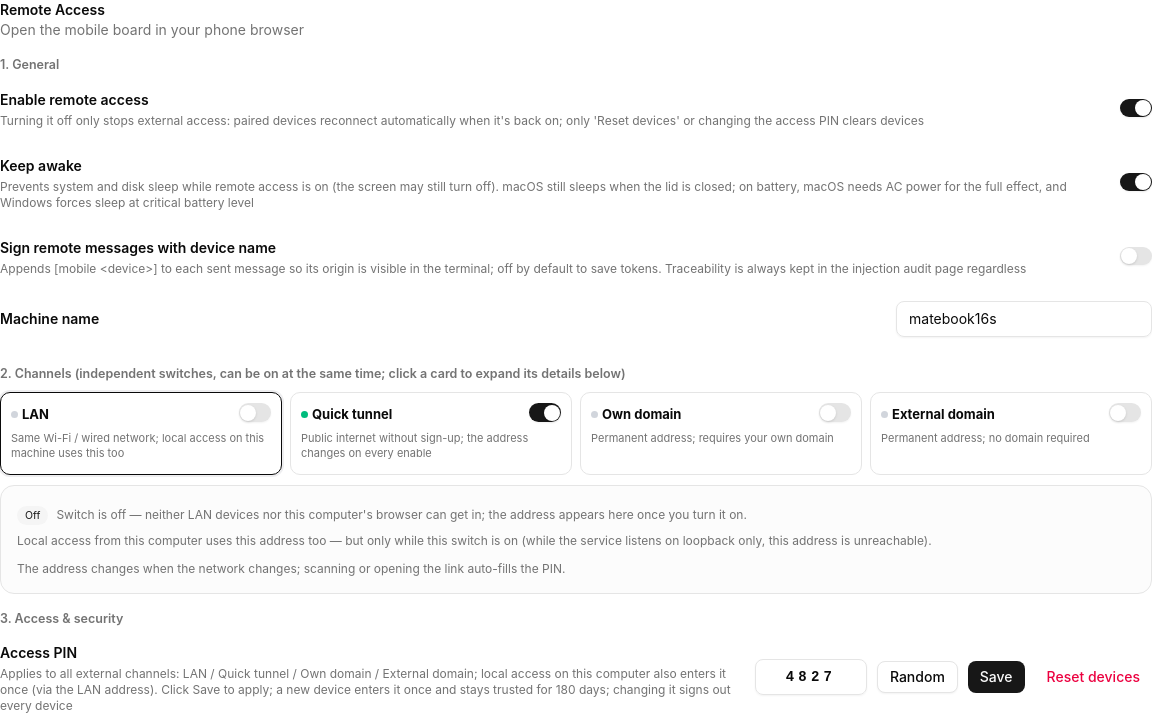
Test: RemoteSection lan 开关 P7 TLS Dialog 流（M5 A6） › Dialog 确认 → remote_confirm_public 先行、重试 remote_toggle_channel(lan,true) 成功、Dialog 关
Click the switch named "LAN": click(255, 412) [239,403,271,422]
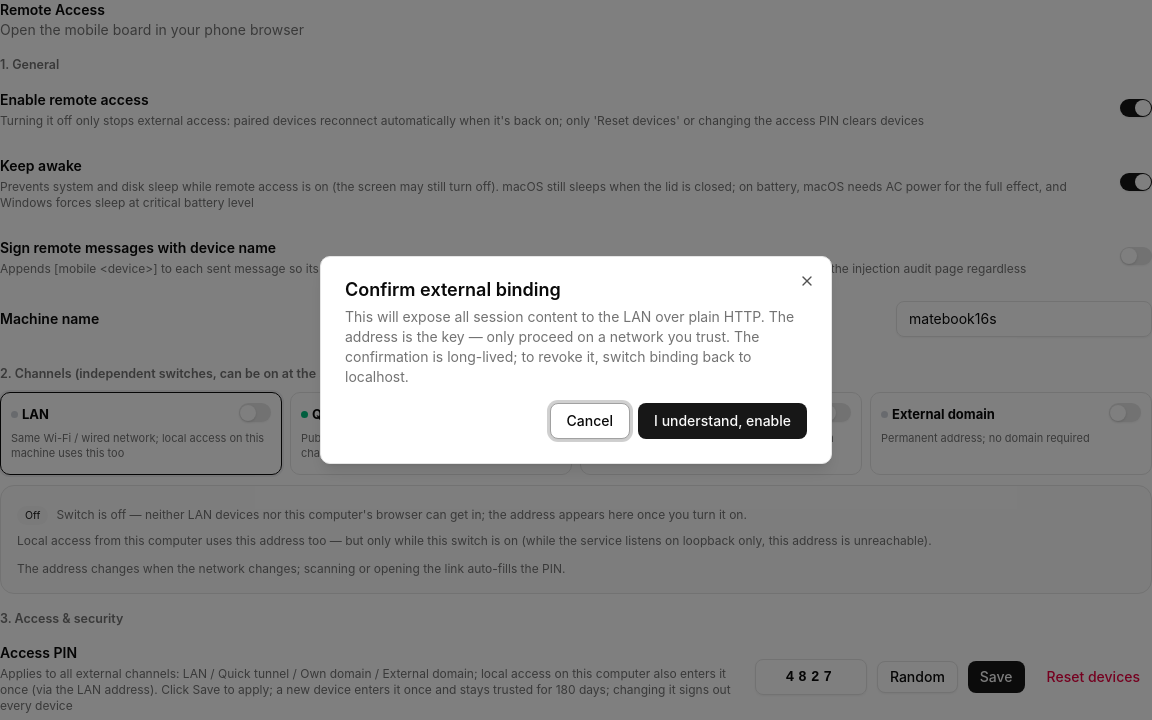
Click the button "I understand, enable": click(723, 421) [638,403,807,439]
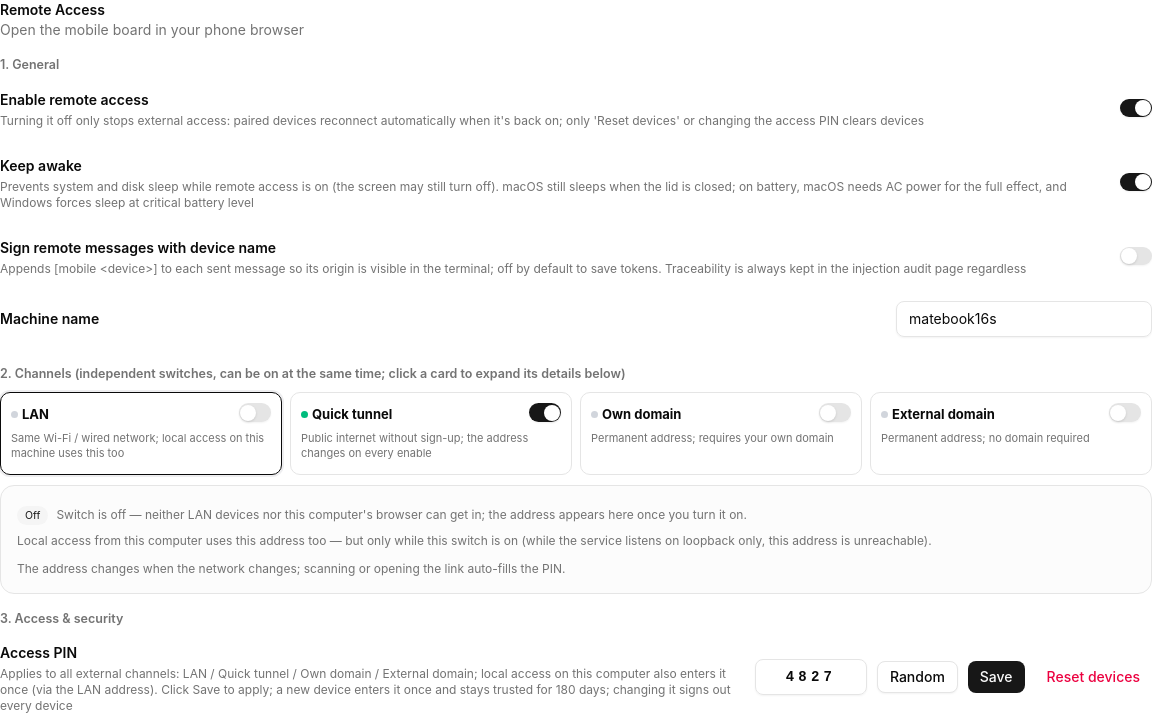
Expected: the dialog is gone
